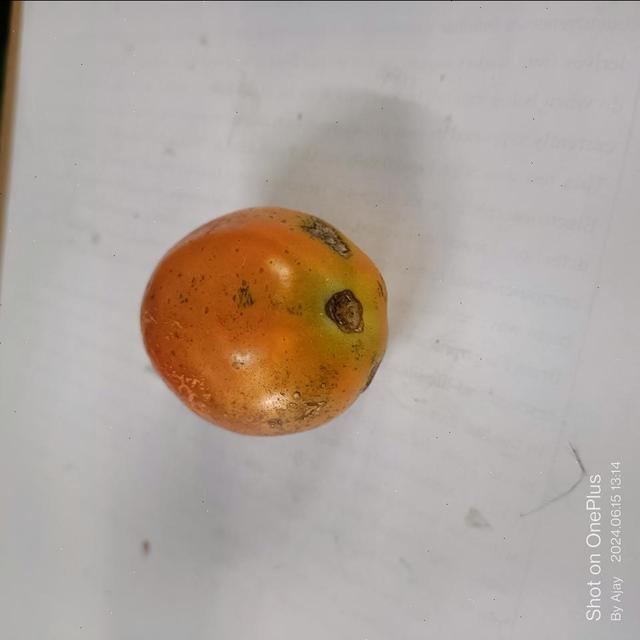Bacterial Spot Fruit: (21, 27, 216, 194)
